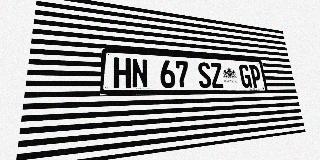6: (160, 60, 176, 88)
7: (174, 61, 190, 88)
G: (238, 64, 252, 88)
H: (113, 57, 131, 88)
N: (131, 58, 148, 88)
P: (249, 65, 262, 88)
S: (197, 62, 212, 88)
Z: (210, 63, 224, 88)
